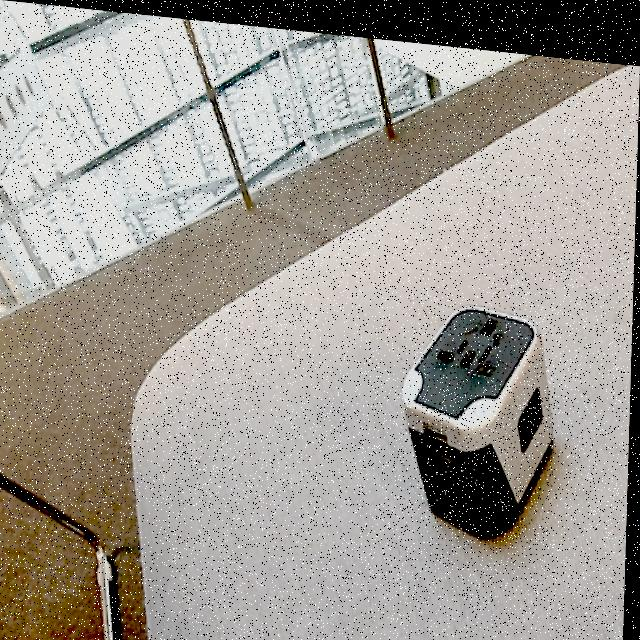adapter: (399, 287, 559, 534)
